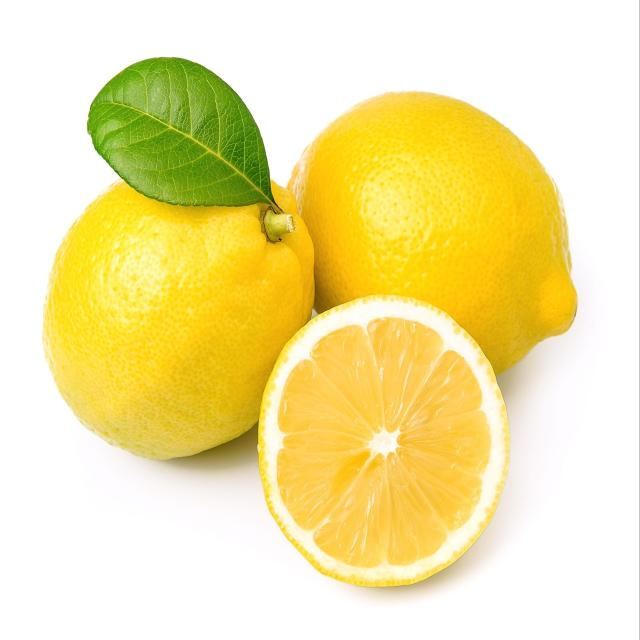lemon: (279, 83, 581, 380), (252, 287, 516, 593)
